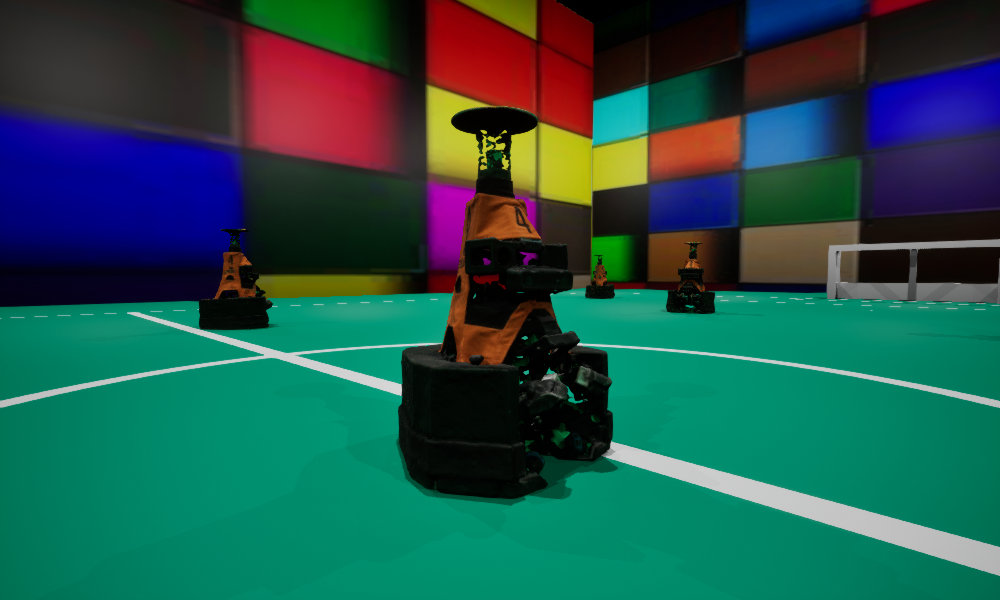o: (398, 106, 612, 498), (199, 229, 272, 329), (666, 242, 714, 312), (585, 255, 614, 298)
